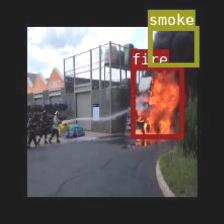fire: (130, 65, 183, 138)
smoke: (146, 26, 198, 65)
